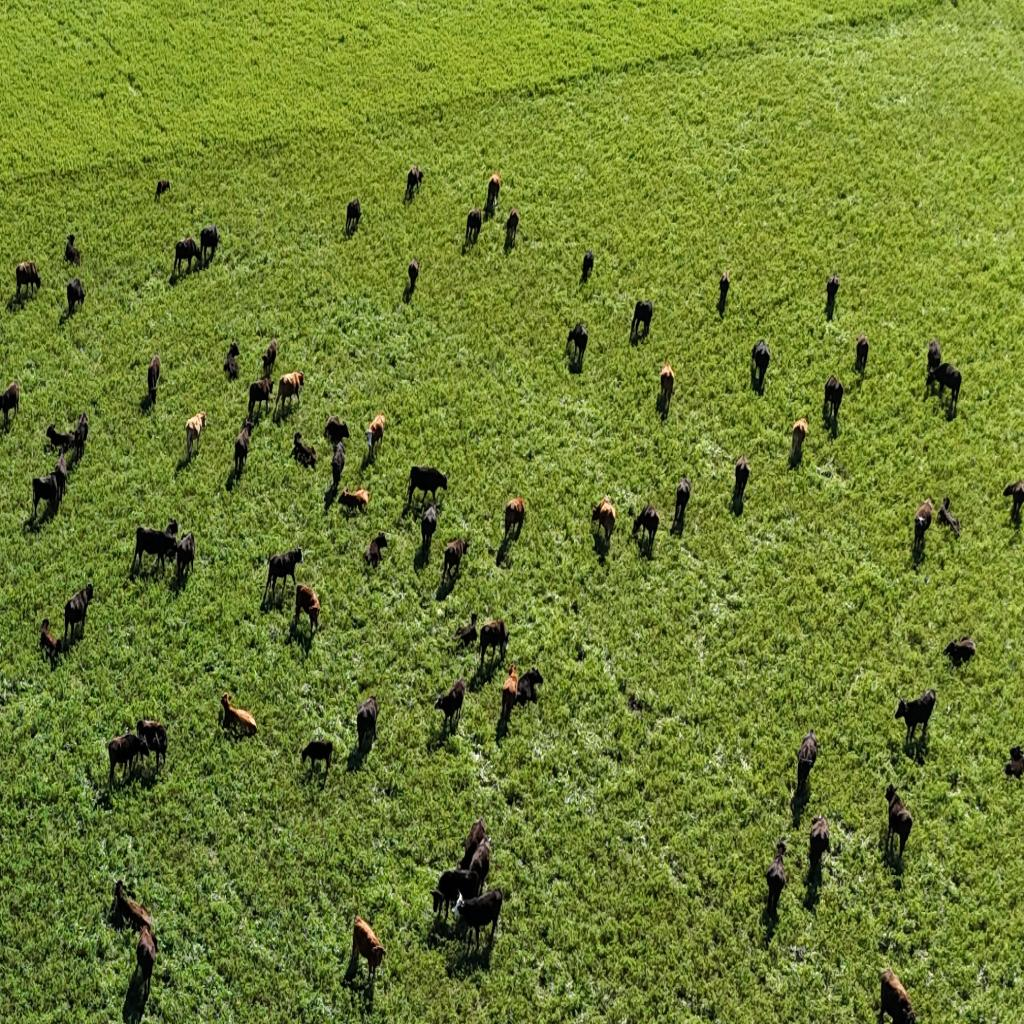cow: (123, 517, 183, 585), (452, 884, 504, 952), (432, 868, 479, 924), (262, 546, 303, 608), (107, 730, 149, 788), (895, 687, 936, 745), (110, 882, 152, 938), (352, 914, 386, 983), (885, 782, 914, 862), (878, 966, 918, 1023), (405, 464, 449, 514), (434, 678, 466, 738), (63, 583, 94, 643), (218, 690, 255, 740), (927, 360, 962, 410), (136, 717, 169, 769), (766, 838, 788, 913), (478, 618, 509, 670), (464, 833, 495, 883), (808, 814, 832, 878), (795, 728, 819, 791), (294, 583, 321, 637), (276, 370, 306, 418), (136, 925, 158, 990), (442, 535, 470, 584), (459, 814, 487, 862), (32, 472, 57, 524), (634, 502, 658, 556), (173, 236, 202, 280), (914, 498, 936, 555), (592, 498, 616, 550), (356, 695, 378, 751), (300, 738, 332, 776), (515, 666, 544, 707), (186, 408, 208, 460), (500, 664, 519, 724), (234, 419, 253, 479), (16, 260, 42, 302), (248, 379, 274, 420), (419, 502, 438, 558), (176, 531, 196, 584), (944, 633, 976, 666), (454, 611, 481, 650), (672, 476, 691, 531), (0, 378, 20, 430), (40, 619, 60, 671), (504, 494, 526, 541), (567, 320, 588, 368), (291, 431, 317, 469), (938, 495, 960, 539), (339, 485, 370, 516), (46, 423, 75, 456), (72, 410, 90, 463), (1000, 480, 1023, 521), (790, 416, 810, 463), (366, 412, 386, 459), (734, 453, 751, 507), (824, 374, 843, 422), (631, 299, 653, 340), (324, 414, 350, 448), (752, 338, 770, 386), (926, 336, 942, 388), (53, 451, 68, 506), (200, 225, 220, 266), (364, 534, 388, 568), (224, 337, 242, 382), (66, 276, 86, 316), (261, 338, 279, 382), (1002, 744, 1024, 780), (404, 165, 424, 204), (659, 360, 675, 408), (331, 440, 346, 489), (147, 354, 161, 406), (465, 207, 482, 247), (504, 206, 520, 248), (486, 172, 501, 216), (64, 233, 82, 267), (346, 198, 362, 235), (855, 332, 869, 373), (826, 272, 839, 310), (718, 270, 730, 308), (582, 249, 594, 282), (155, 178, 171, 199), (408, 256, 419, 285), (242, 416, 256, 437), (165, 518, 178, 539)
